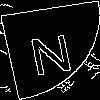N: (24, 24, 76, 76)
